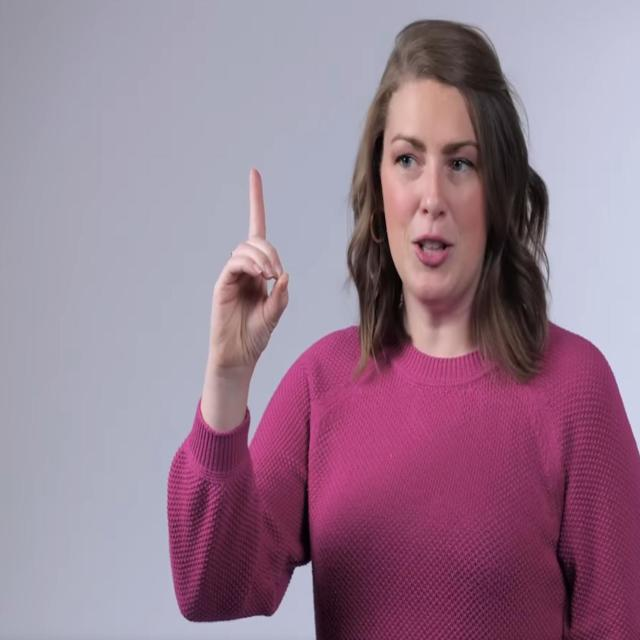D: (204, 166, 291, 374)
